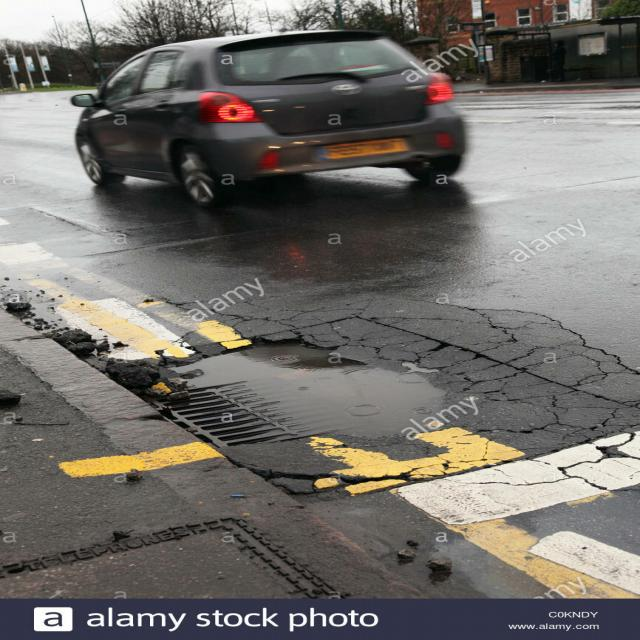Pothole: (116, 294, 568, 495)
